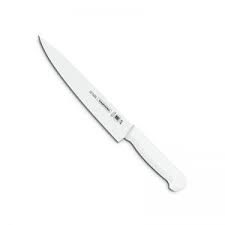kuchillu: (35, 31, 190, 193)
